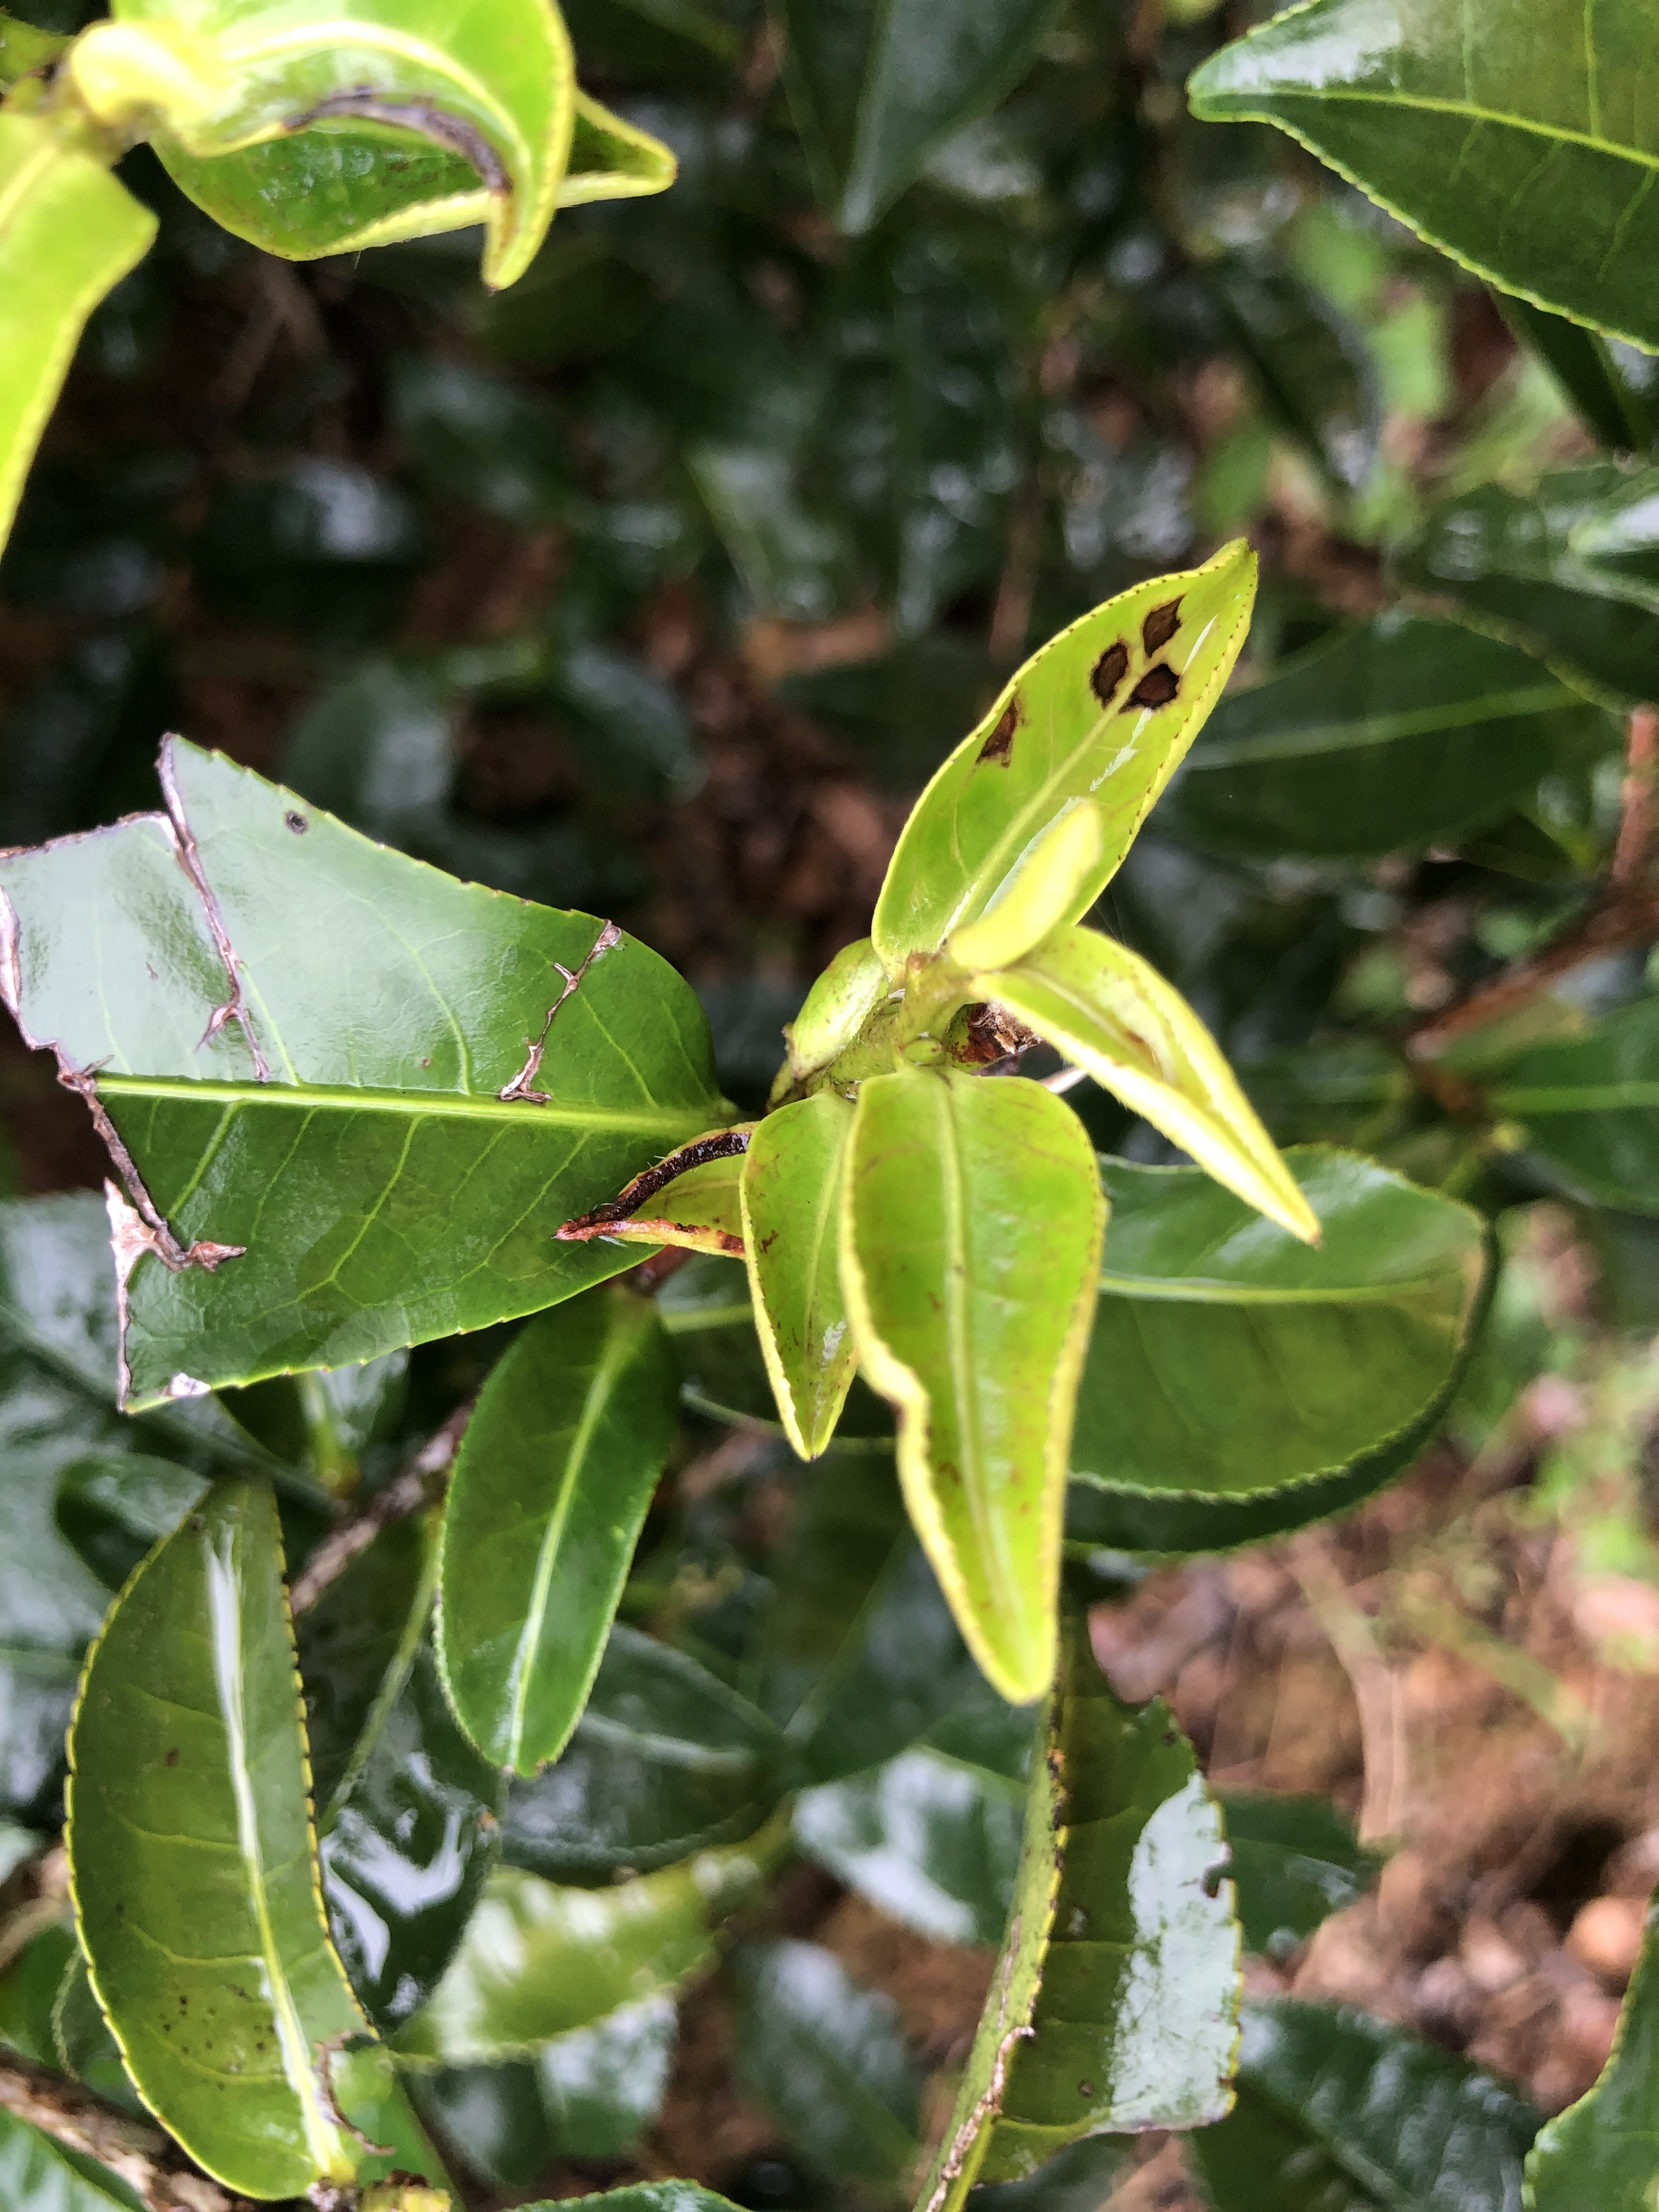formosa: (835, 1035, 1105, 1700), (727, 1078, 877, 1472)
mosquito_early: (861, 535, 1258, 965)
